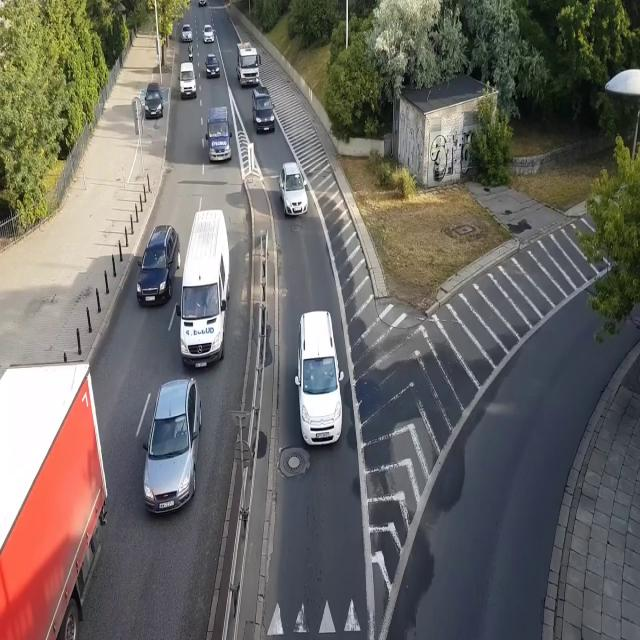car: (141, 377, 204, 518), (136, 223, 181, 310), (278, 161, 308, 218), (142, 82, 165, 120), (204, 53, 221, 81), (202, 24, 215, 46), (180, 22, 193, 42), (198, 0, 208, 9)
motorcycle: (188, 43, 194, 63)
truck: (0, 361, 109, 640), (234, 42, 263, 91)
van: (176, 208, 230, 372), (294, 310, 346, 450), (204, 105, 233, 163), (252, 88, 277, 137), (178, 60, 196, 100)
